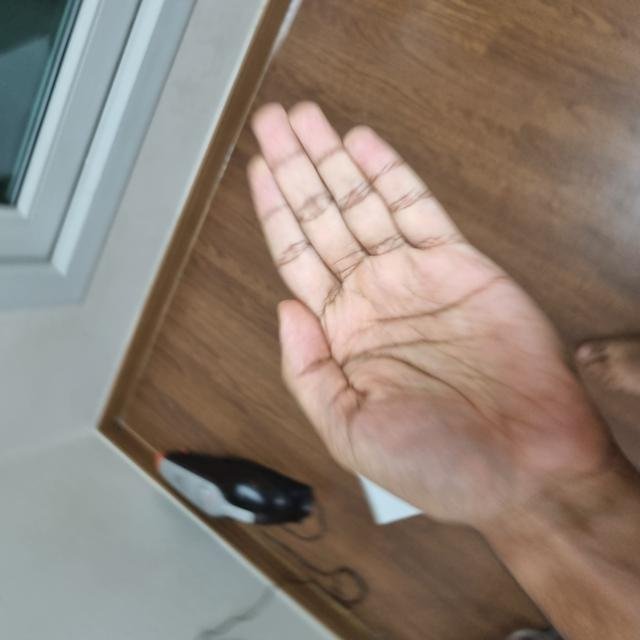Paper: (118, 279, 390, 584)
